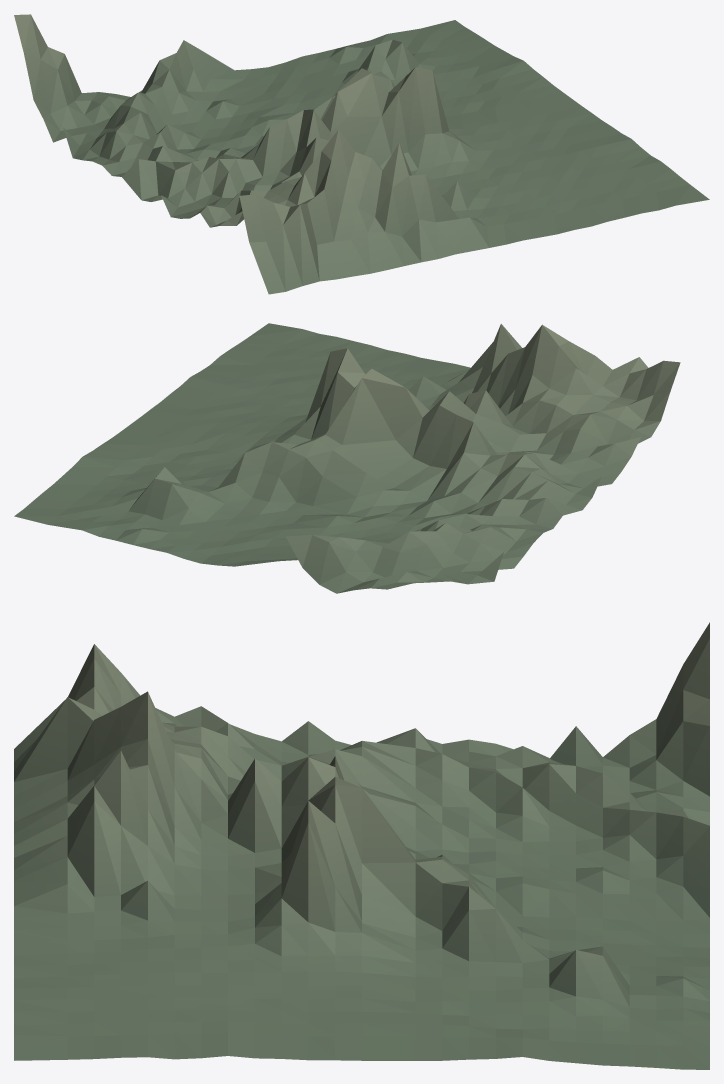
File: tile_3_3.glb
3 renders of one model, top to bottom at view 1: azimuth 30°, elevation 25°; view 2: azimuth 150°, elevation 25°; view 3: azimuth 270°, elevation 25°, orthographic. The views are drawn at different scales.
Visible parts, largest first — view 1: geometry_0; view 2: geometry_0; view 3: geometry_0.
Part boxes in pixels (x1,y1,x2,y2): geometry_0: (14, 14, 709, 294); geometry_0: (14, 323, 680, 593); geometry_0: (14, 622, 709, 1069).
Bounding box in the file's own units: 127 × 33.53 × 127.
